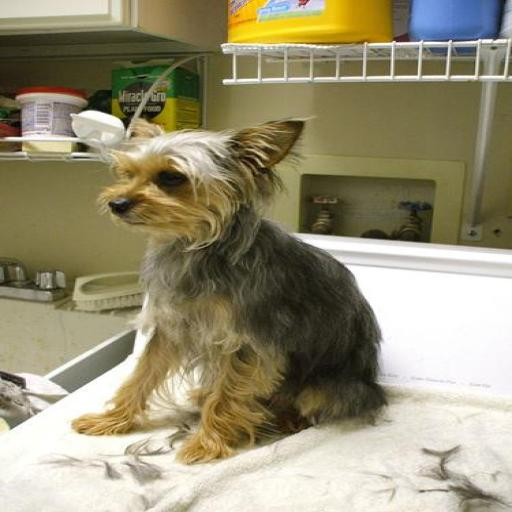dog_face: (96, 118, 293, 240)
